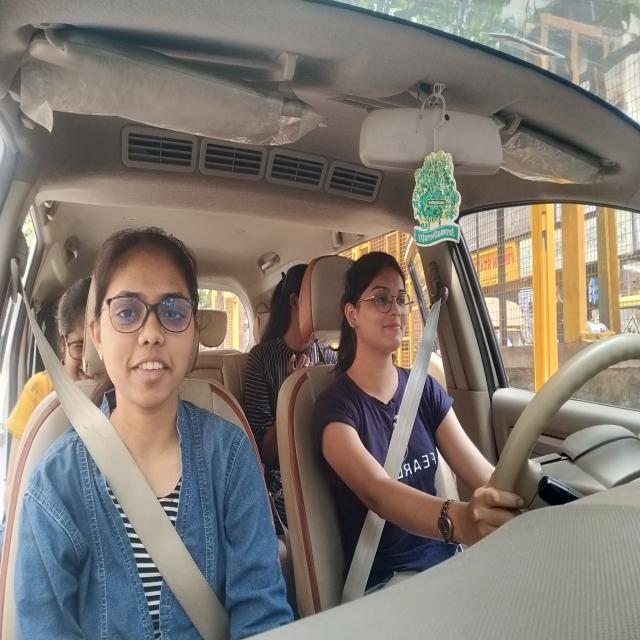person: (98, 226, 196, 408), (340, 252, 419, 368), (52, 283, 98, 386)
